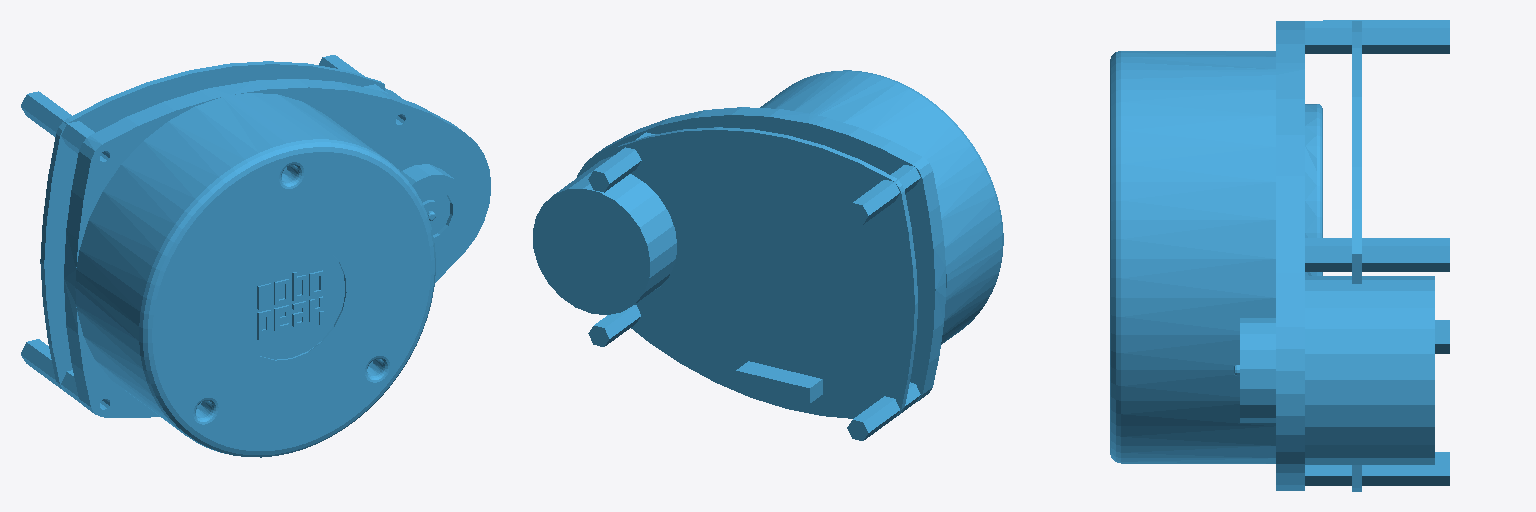
The robot description file, URDF, robot "rpi_car":
<?xml version="1.0" encoding="utf-8"?>
<robot name="rpi_car">
	<link name="base_link">
	</link>
	<link name="laser">
		<visual>
			<geometry>
	       		 	<mesh filename="package://rpi_car/urdf/lidar.STL" />
      			</geometry>
		</visual>
	</link>
	<joint name="base_link_to_laser" type="fixed">
		<parent link="base_link"/>
		<child link="laser"/>
		<origin xyz="0.0 0.0 0.2" rpy="0.0 0.0 0.0"/>
		<axis xyz="0 0 0"/>
	</joint>  
</robot>

--- Facts derived from the render (not from the file) ---
Views: 3 orthographic renders of the robot side by side, from view 1: azimuth 30°, elevation 25°; view 2: azimuth 150°, elevation 25°; view 3: azimuth 270°, elevation 25°.
Model rpi_car with 2 links and 1 joints (1 fixed), rooted at base_link, posed every joint at zero.
Links seen in each view (by area): view 1: laser; view 2: laser; view 3: laser.
Link boxes in pixels (x1,y1,x2,y2): laser: [21, 55, 490, 457]; laser: [533, 70, 1003, 440]; laser: [1110, 20, 1449, 491].
Size in the robot's own frame: 0.0985 by 0.0577 by 0.07 metres.
1 mesh visuals loaded from 1 distinct referenced files (1 binary STL).